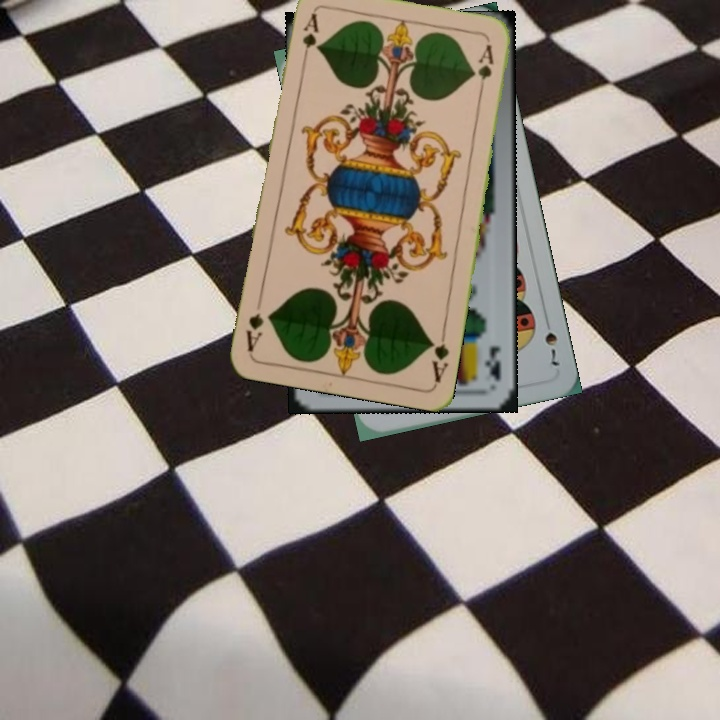EK: (481, 342, 504, 382)
GA: (425, 326, 452, 386), (297, 9, 320, 68)
S7: (540, 313, 563, 369)
